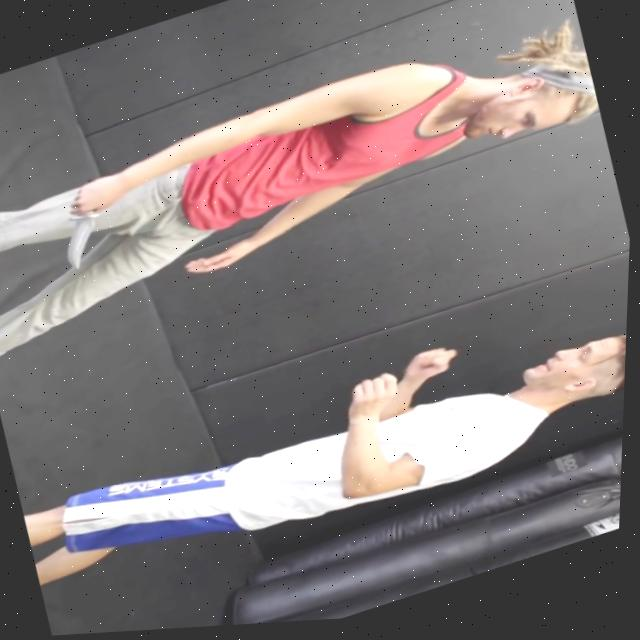knife: (56, 207, 114, 274)
